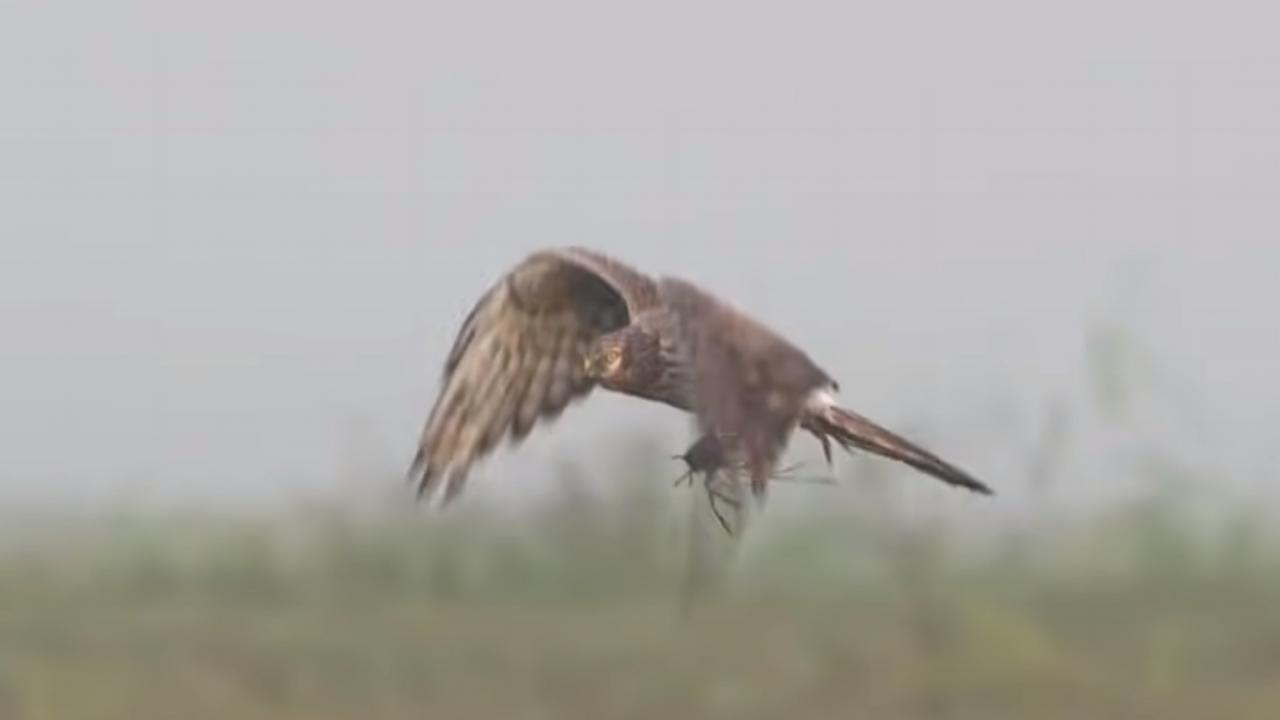Bird: (400, 235, 1006, 547)
